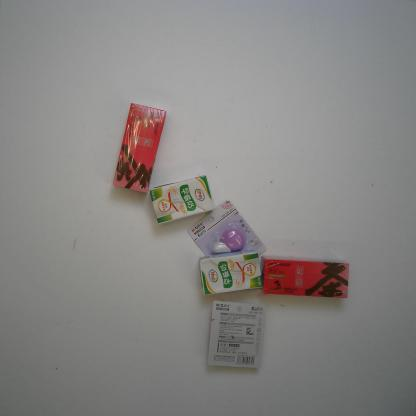Instant Drink: (112, 103, 166, 193), (261, 254, 350, 299)
Milk: (148, 175, 214, 224), (198, 250, 263, 295)
Stationery: (188, 200, 266, 269), (207, 300, 266, 369)
